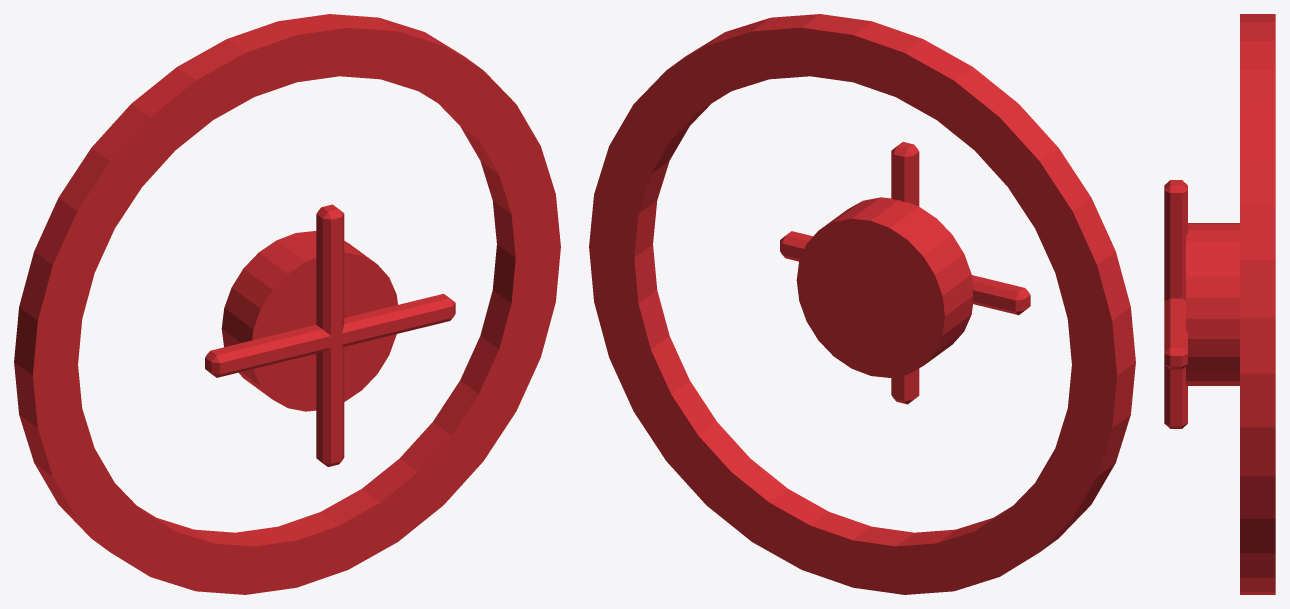
Rendered from drone_sensor_red.obj.
3 renders of one model, left to right at view 1: azimuth 30°, elevation 25°; view 2: azimuth 150°, elevation 25°; view 3: azimuth 270°, elevation 25°, orthographic. The views are drawn at different scales.
Parts seen in each view (by area): view 1: part_000, part_001, part_002, part_003; view 2: part_000, part_001, part_002, part_003; view 3: part_000, part_001, part_002, part_003.
Boxes of the visible parts, x1,y1,x2,y2 form: part_000: (14, 14, 560, 594); part_001: (221, 231, 397, 411); part_002: (316, 204, 344, 466); part_003: (205, 293, 455, 377); part_000: (589, 14, 1135, 594); part_001: (796, 197, 973, 377); part_002: (891, 142, 919, 404); part_003: (780, 231, 1030, 315); part_000: (1240, 14, 1275, 594); part_001: (1186, 223, 1239, 385); part_002: (1164, 180, 1187, 428); part_003: (1164, 298, 1187, 369).
Size of the model in its own units: 0.292 by 0.292 by 0.056.
